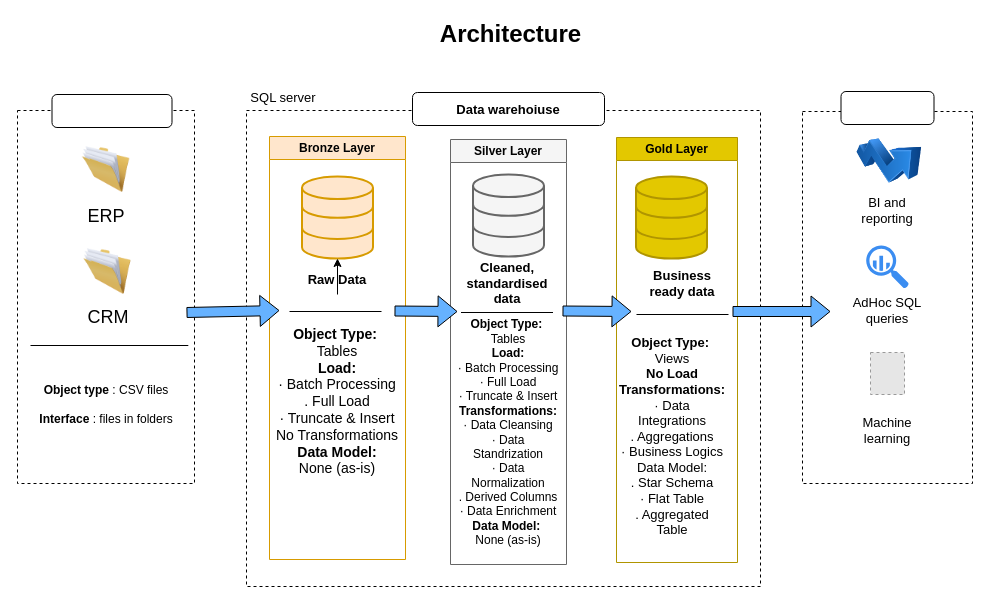
The diagram is 990 pixels wide and 604 high, and some of its shapes have lost their labels. Grey dashed boxes stand in for pictures. Each missing label, with the centre of its shape:
Consume: (x=887, y=107)
Sources: (x=111, y=111)
